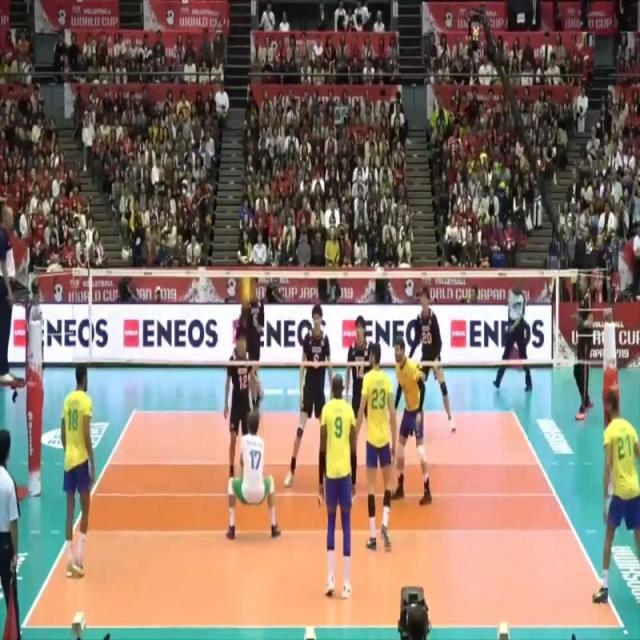volleyball: (237, 274, 256, 308)
